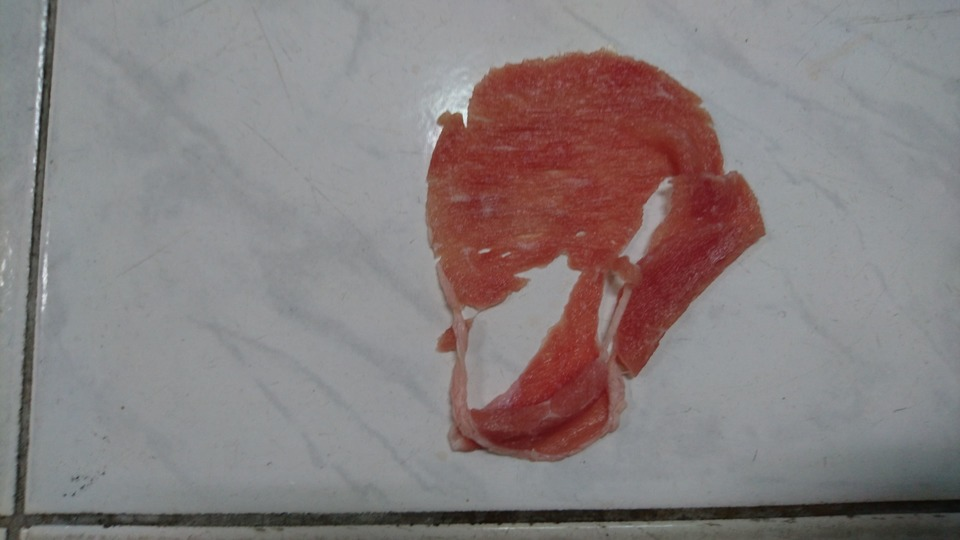restructured meat: (393, 33, 798, 476)
